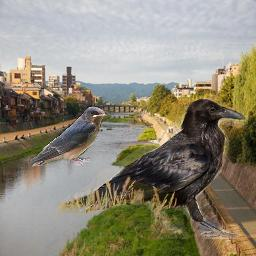Crow: (58, 98, 246, 239)
Swallow: (29, 106, 107, 169)
